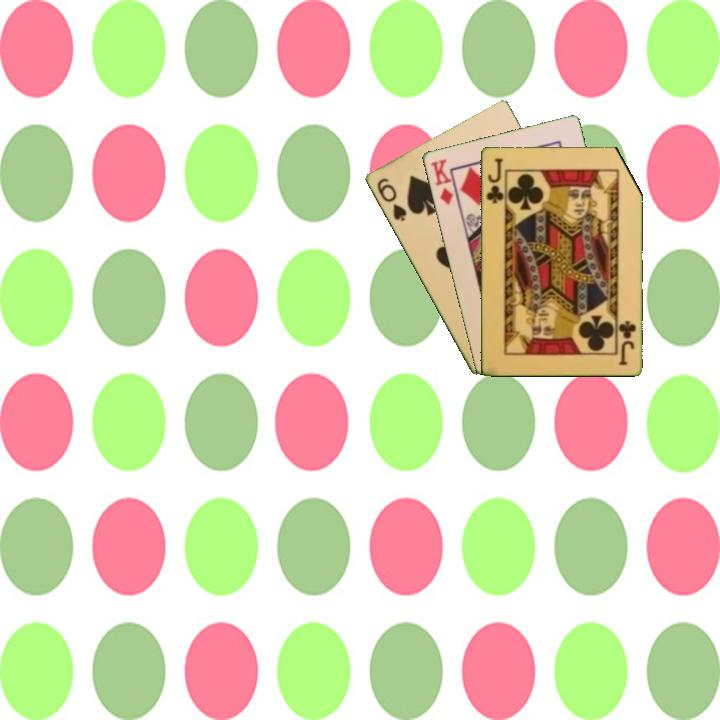6s: (373, 174, 409, 224)
Jc: (482, 154, 506, 206), (616, 317, 638, 368)
Kd: (427, 155, 460, 208)
